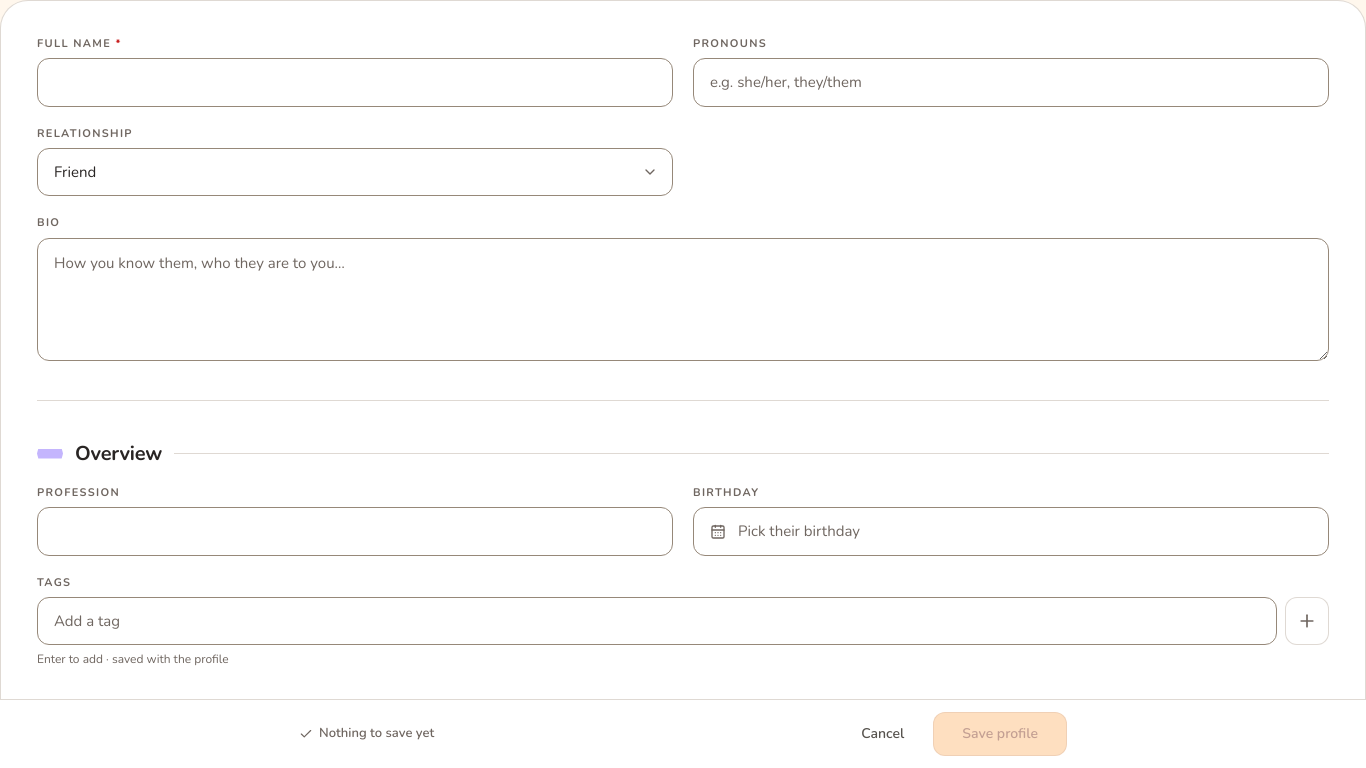
ProfileForm › offers nothing to save until something changes
This screenshot has width=1366, height=768.
Expected: the button "Save profile" is disabled, [933,712,1067,756]
Expected: the text "Nothing to save yet" is shown, [299,724,434,742]
Type "Asha" into the field labelled "Full name *".
click(355, 82); type("Asha")  # box [37,58,673,107]
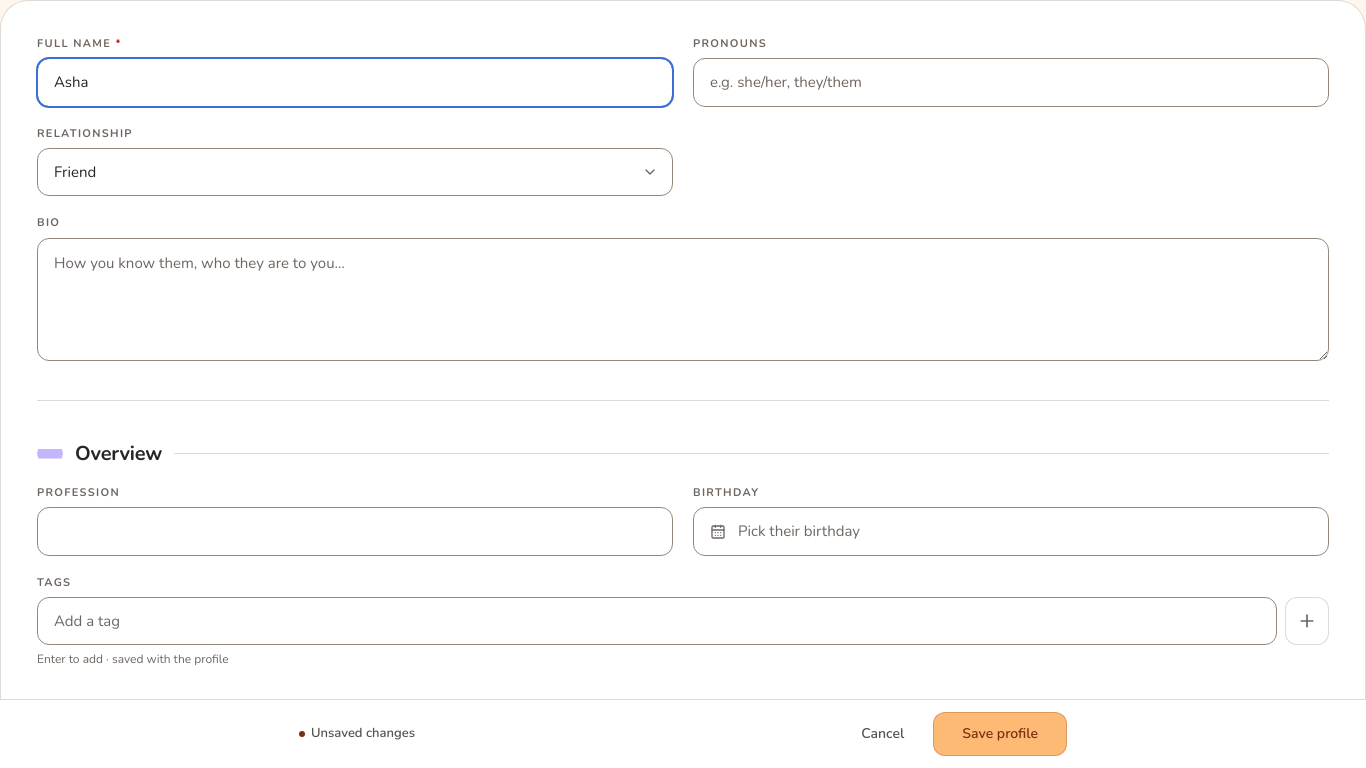
Result: the button "Save profile" is enabled at [933,712,1067,756]
Result: the text "Unsaved changes" is shown at [299,724,415,742]
